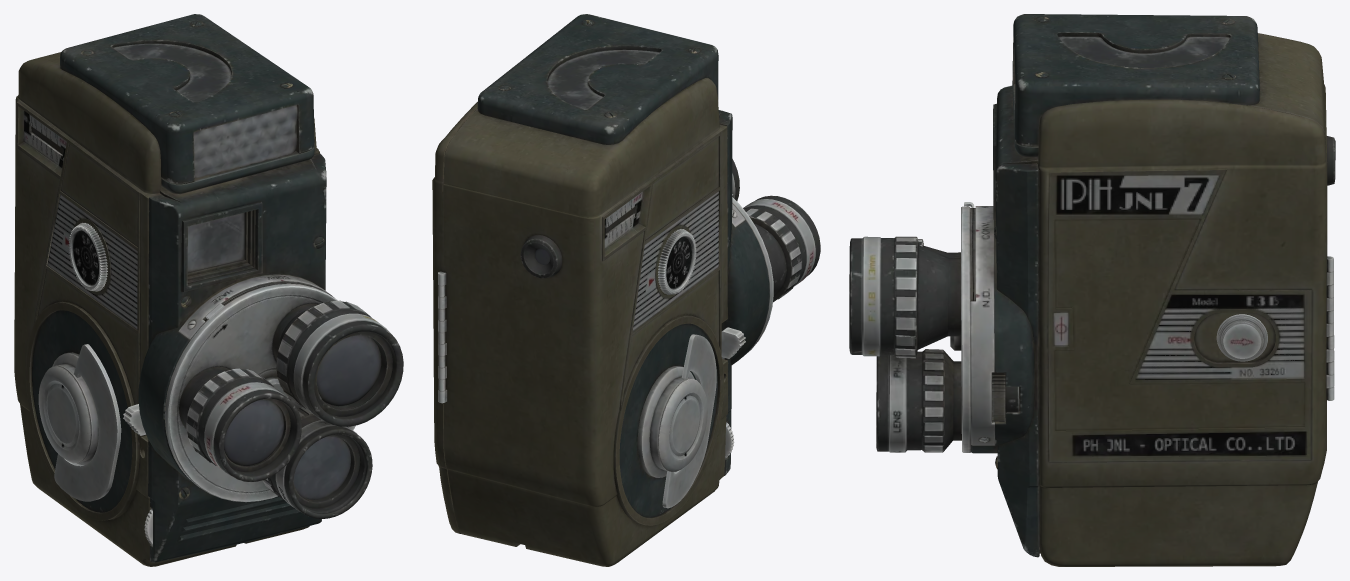
Rendered from videocam.glb.
3 views of the same model, side by side, from view 1: azimuth 30°, elevation 25°; view 2: azimuth 150°, elevation 25°; view 3: azimuth 270°, elevation 25° (orthographic). The views are drawn at different scales.
Visible parts, largest first — view 1: vintage_video_camera; view 2: vintage_video_camera; view 3: vintage_video_camera.
Boxes of the visible parts, x1,y1,x2,y2 form: vintage_video_camera: [14, 14, 403, 566]; vintage_video_camera: [432, 14, 820, 566]; vintage_video_camera: [849, 14, 1335, 566].
Bounding box in the file's own units: 0.0712 × 0.145 × 0.1326.
Materials: 2 (2 with a texture image).
